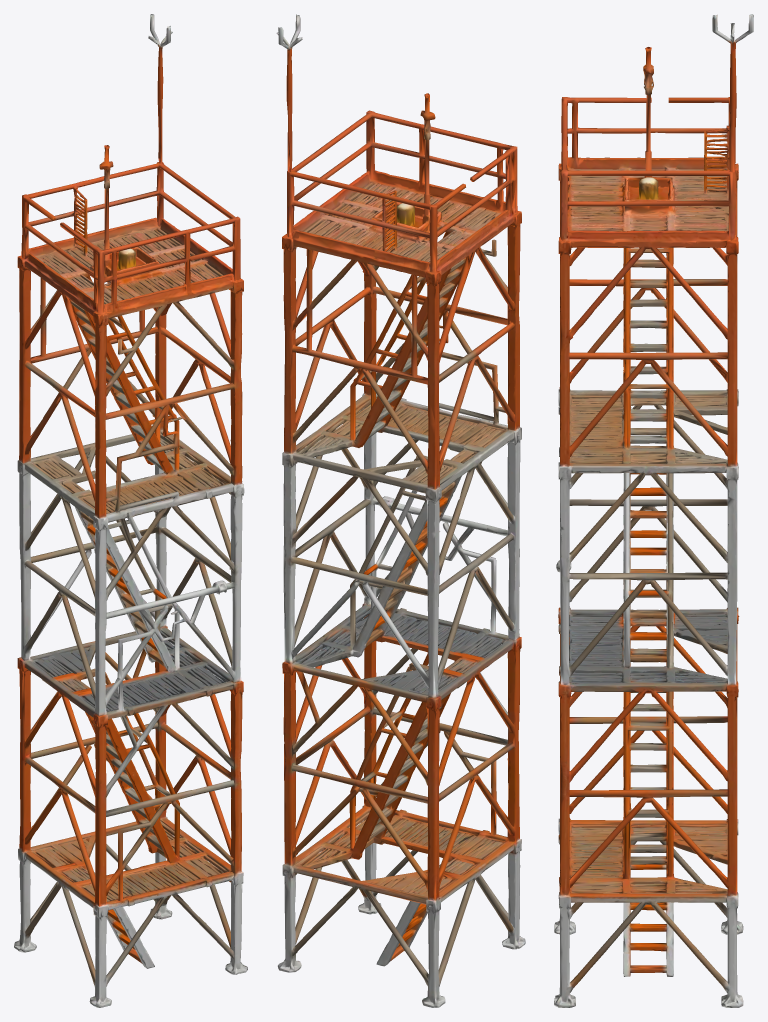
File: torre.glb
3 renders of one model, left to right at view 1: azimuth 30°, elevation 25°; view 2: azimuth 150°, elevation 25°; view 3: azimuth 270°, elevation 25°, orthographic. The views are drawn at different scales.
Visible parts, largest first — view 1: tripo_node_0c3f825e-6cf8-4fd9-9a7e-2dbc4f177157; view 2: tripo_node_0c3f825e-6cf8-4fd9-9a7e-2dbc4f177157; view 3: tripo_node_0c3f825e-6cf8-4fd9-9a7e-2dbc4f177157.
Part boxes in pixels (left/top/right/bottom): tripo_node_0c3f825e-6cf8-4fd9-9a7e-2dbc4f177157: left=14, top=14, right=247, bottom=1007; tripo_node_0c3f825e-6cf8-4fd9-9a7e-2dbc4f177157: left=276, top=14, right=525, bottom=1007; tripo_node_0c3f825e-6cf8-4fd9-9a7e-2dbc4f177157: left=554, top=14, right=753, bottom=1007.
Bounding box in the file's own units: 0.1801 × 0.9847 × 0.1796.
Materials: 1 (1 with a texture image).
